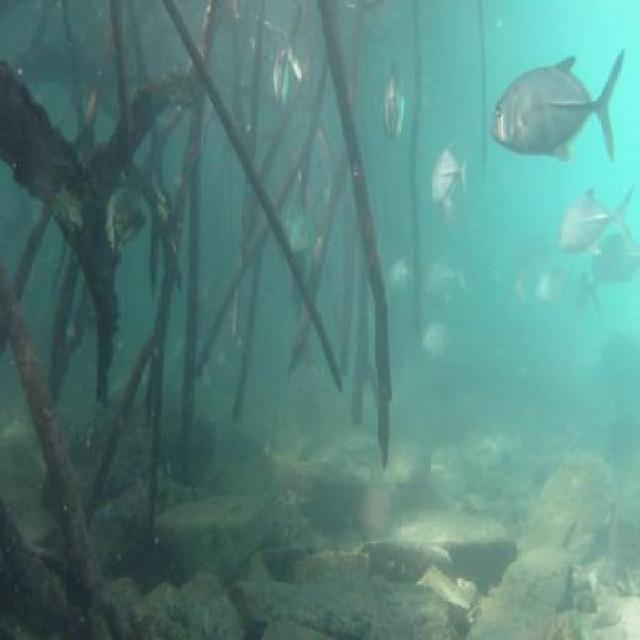Caranx_sexfasciatus_juvenile: (490, 49, 630, 165), (553, 176, 632, 258), (259, 8, 315, 117), (425, 129, 470, 222), (418, 248, 477, 318), (369, 61, 408, 150), (415, 301, 457, 379), (282, 200, 322, 280), (588, 227, 640, 287), (525, 265, 564, 324), (377, 248, 415, 308), (568, 266, 602, 326), (500, 263, 531, 317), (315, 156, 340, 222)
